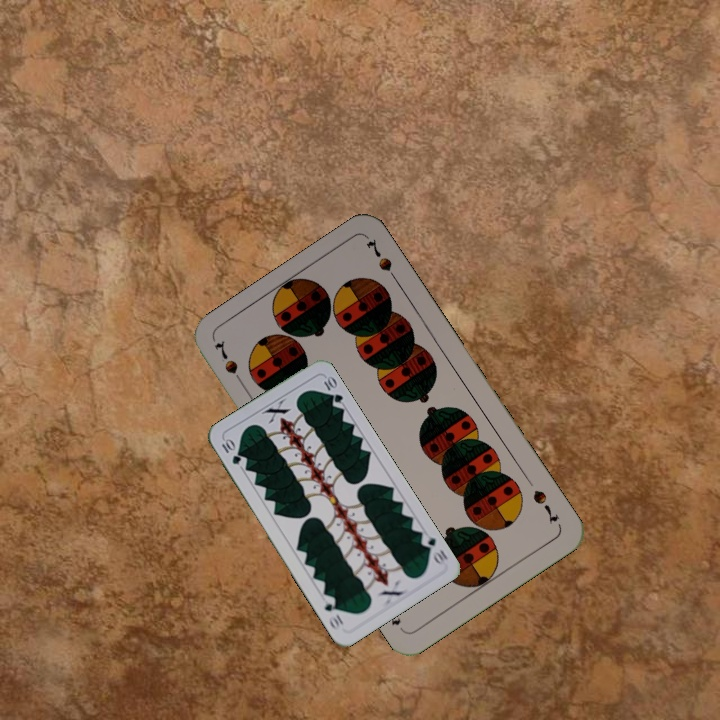G10: (416, 529, 450, 567), (217, 435, 244, 467)
S7: (210, 336, 248, 391), (528, 485, 561, 527)
